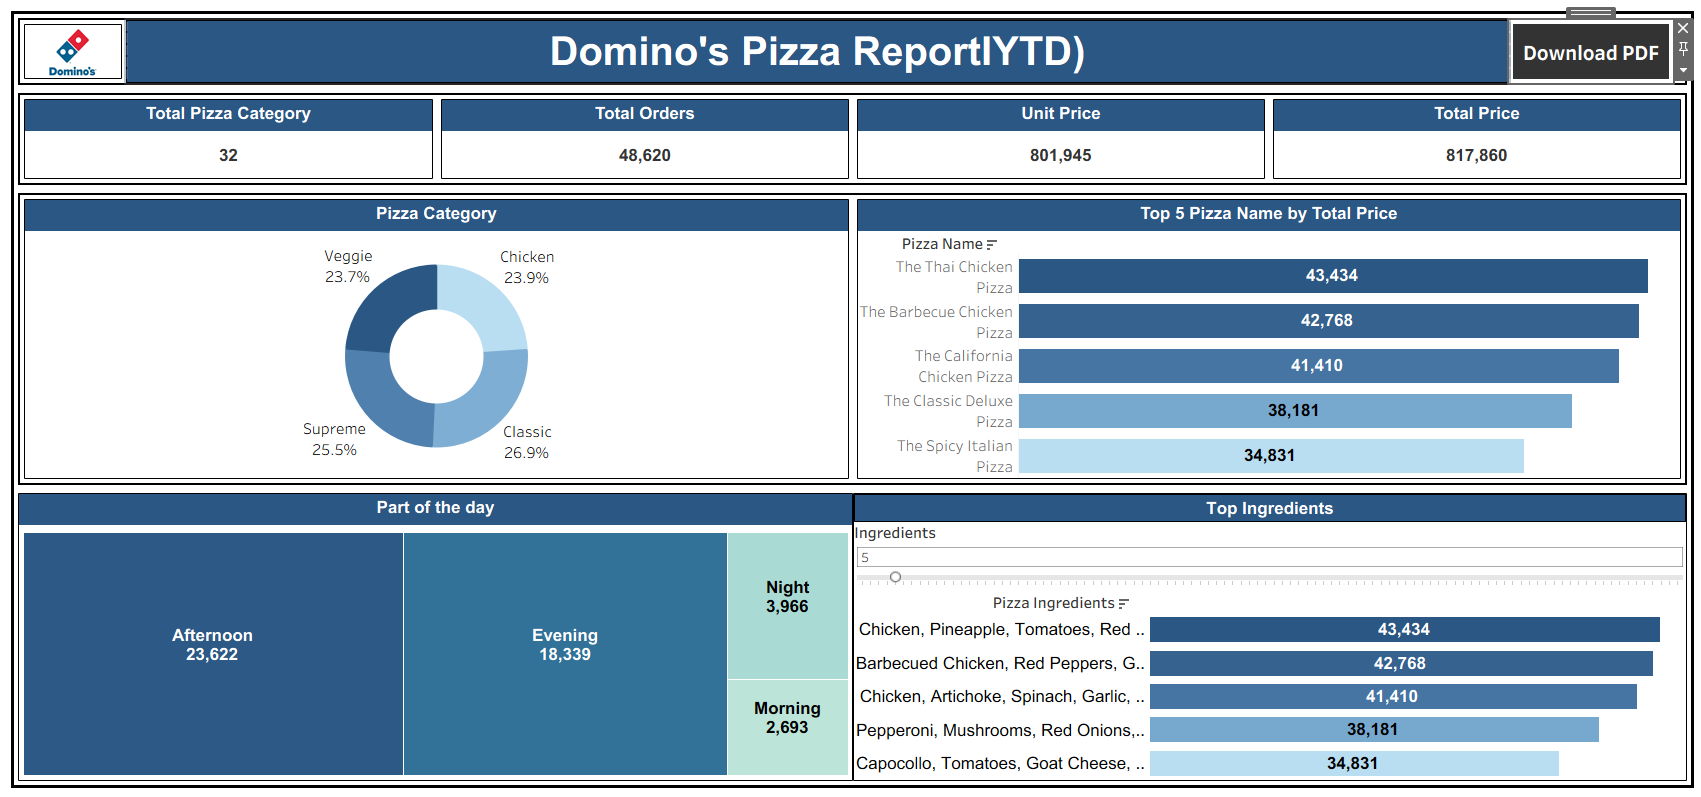

This screenshot's page, from the dashboard's own definition file:
{"tool":"tableau","page":{"name":"Pizza_Dashboard","canvas":[1000,1000],"units":"permille","ordinal":0},"visuals":[{"type":"image","param":"C:/Users/Ashok Rathod/OneDrive/Desktop/All_Dashboard_Projects/PIzza_logo.jpeg","box":[12.3,26.2,62.1,78.7]},{"type":"text","box":[74.4,26.2,810.2,78.7]},{"type":"dashboard-object","box":[884.6,26.2,96.1,78.7]},{"type":"worksheet","title":"Total Pizza Category","mark":"Automatic","box":[12.3,119.9,244.3,109.9]},{"type":"worksheet","title":"Total Orders","mark":"Automatic","box":[256.6,119.9,243.7,109.9]},{"type":"worksheet","title":"Unit Price","mark":"Automatic","box":[500.3,119.9,243.7,109.9]},{"type":"worksheet","title":"Total Price","mark":"Automatic","box":[744,119.9,243.7,109.9]},{"type":"worksheet","title":"Pizza Category","mark":"Circle","rows":["Calculation_1461418105087459331","Calculation_1461418105087459331"],"box":[12.3,244.7,488,359.6]},{"type":"worksheet","title":"Top 5 Pizza Name by Total Price","mark":"Automatic","rows":["pizza_name"],"cols":["total_price"],"box":[500.3,244.7,487.4,359.6]},{"type":"worksheet","title":"Part of the day","mark":"Automatic","box":[11.1,616.7,489.2,359.6]},{"type":"text","box":[500.9,618,487.4,35]},{"type":"parameter","param":"[Parameters].[Parameter 3]","box":[500.9,652.9,487.4,88.6]},{"type":"worksheet","title":"Top Ingredients","mark":"Automatic","rows":["pizza_ingredients"],"cols":["total_price"],"box":[500.9,741.6,487.4,233.4]}]}

Visuals, with their boxes on the dashboard's canvas, which has no fixed pixel size, in thousandths of its width and height (x1, y1, x2, y2). These are canvas units, not pixel positions in the 1701x797 screenshot, which may show the page scaled, cropped or inside an application window:
image: select_region(12, 26, 74, 105)
text: select_region(74, 26, 885, 105)
dashboard-object: select_region(885, 26, 981, 105)
"Total Pizza Category" worksheet: select_region(12, 120, 257, 230)
"Total Orders" worksheet: select_region(257, 120, 500, 230)
"Unit Price" worksheet: select_region(500, 120, 744, 230)
"Total Price" worksheet: select_region(744, 120, 988, 230)
"Pizza Category" worksheet (Circle marks): select_region(12, 245, 500, 604)
"Top 5 Pizza Name by Total Price" worksheet: select_region(500, 245, 988, 604)
"Part of the day" worksheet: select_region(11, 617, 500, 976)
text: select_region(501, 618, 988, 653)
parameter: select_region(501, 653, 988, 742)
"Top Ingredients" worksheet: select_region(501, 742, 988, 975)
